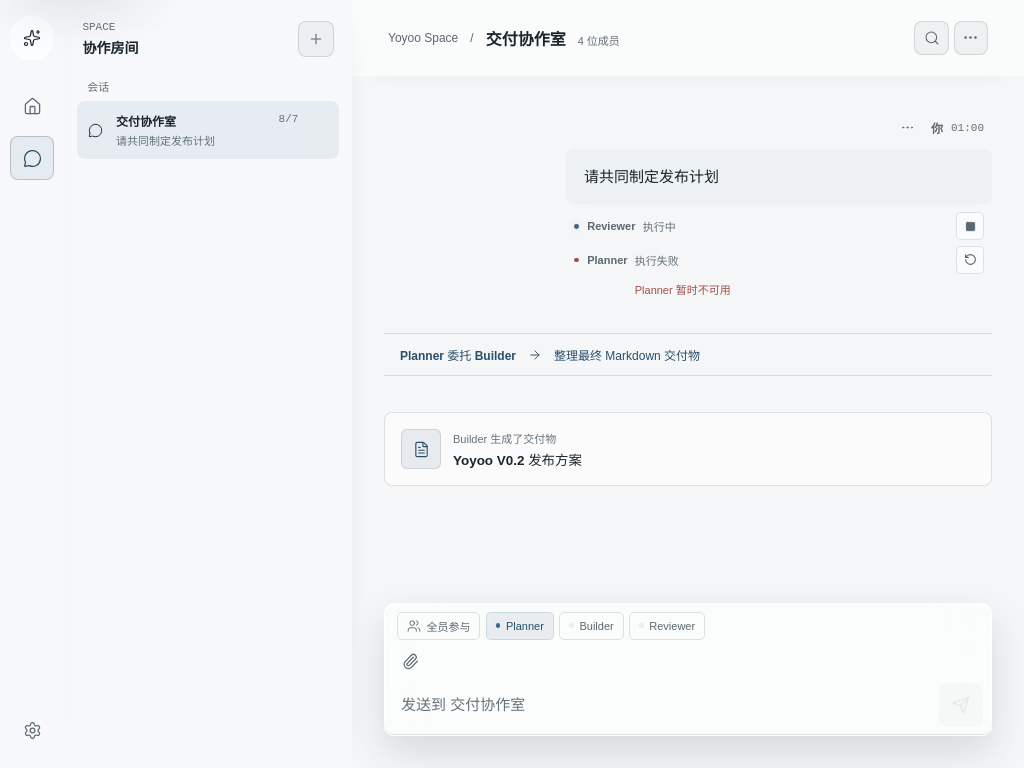
Test: CollaborationRoom › opens conversation actions after a touch long-press
Press the mouse on the button with aria-label "切换到交付协作室" at (192, 130), box [77, 101, 307, 159]
Wait 520 ms
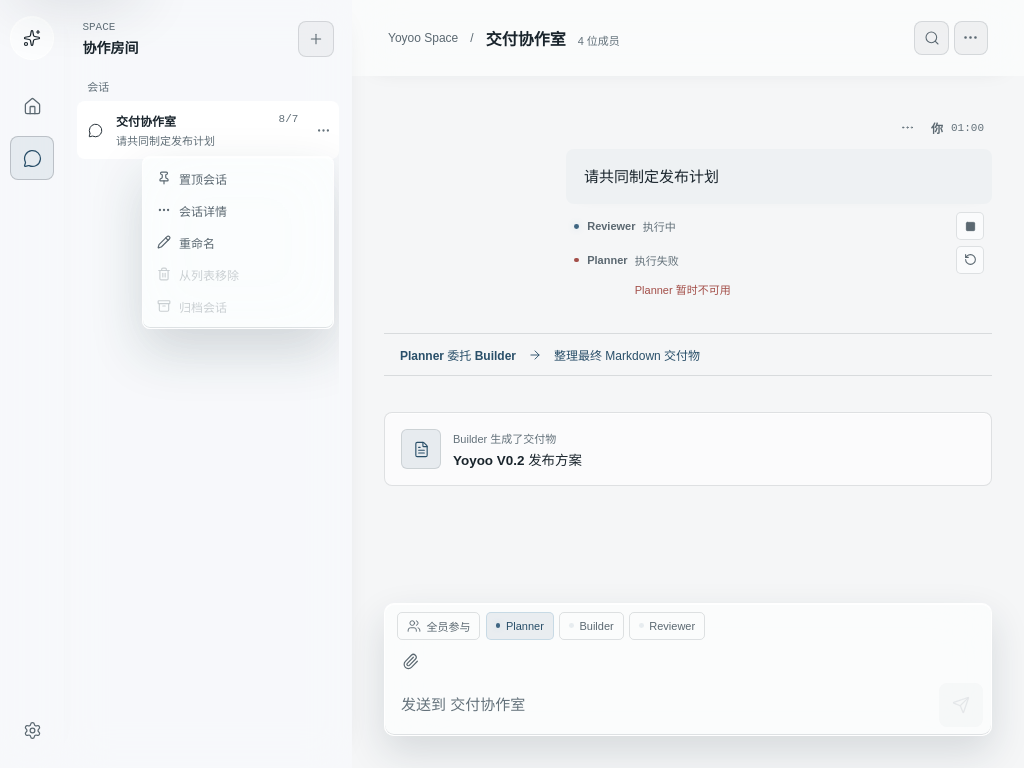
Expected: the menu item "置顶会话" is shown, [148, 162, 327, 194]
